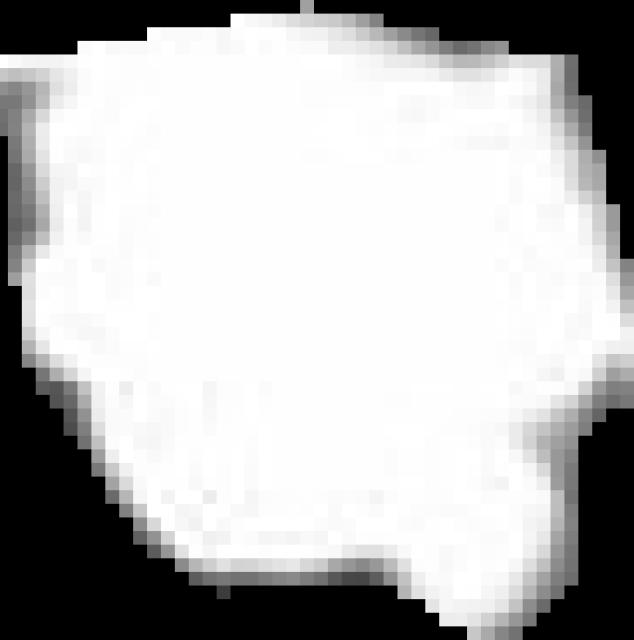tumor_good_chance: (1, 0, 634, 640)
